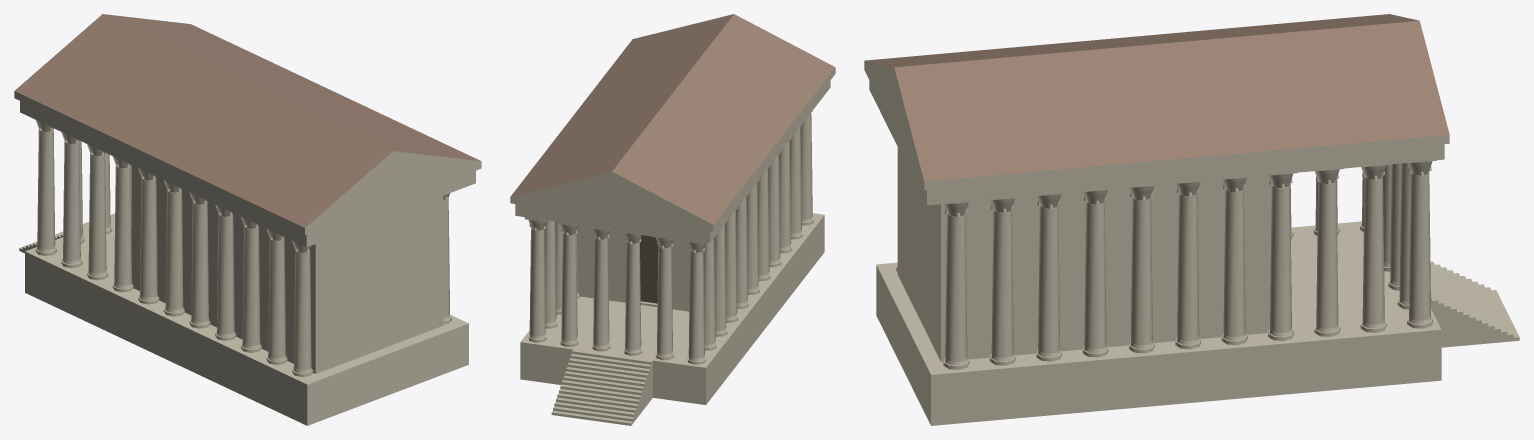
File: maison-carree-nimes-near.glb
3 views of the same model, side by side, from view 1: azimuth 30°, elevation 25°; view 2: azimuth 150°, elevation 25°; view 3: azimuth 270°, elevation 25° (orthographic). The views are drawn at different scales.
Parts seen in each view (by area): view 1: maison-carree-nimes-0-stone, maison-carree-nimes-0-roof; view 2: maison-carree-nimes-0-stone, maison-carree-nimes-0-roof, maison-carree-nimes-0-glass; view 3: maison-carree-nimes-0-stone, maison-carree-nimes-0-roof.
Part boxes in pixels (bbox=[...]): maison-carree-nimes-0-stone: bbox=[14, 91, 481, 425]; maison-carree-nimes-0-roof: bbox=[15, 14, 480, 227]; maison-carree-nimes-0-stone: bbox=[510, 67, 835, 425]; maison-carree-nimes-0-roof: bbox=[511, 14, 835, 224]; maison-carree-nimes-0-glass: bbox=[640, 235, 658, 303]; maison-carree-nimes-0-stone: bbox=[864, 60, 1519, 425]; maison-carree-nimes-0-roof: bbox=[865, 14, 1449, 181].
Bounding box in the file's own units: 20.07 × 17 × 33.21.
